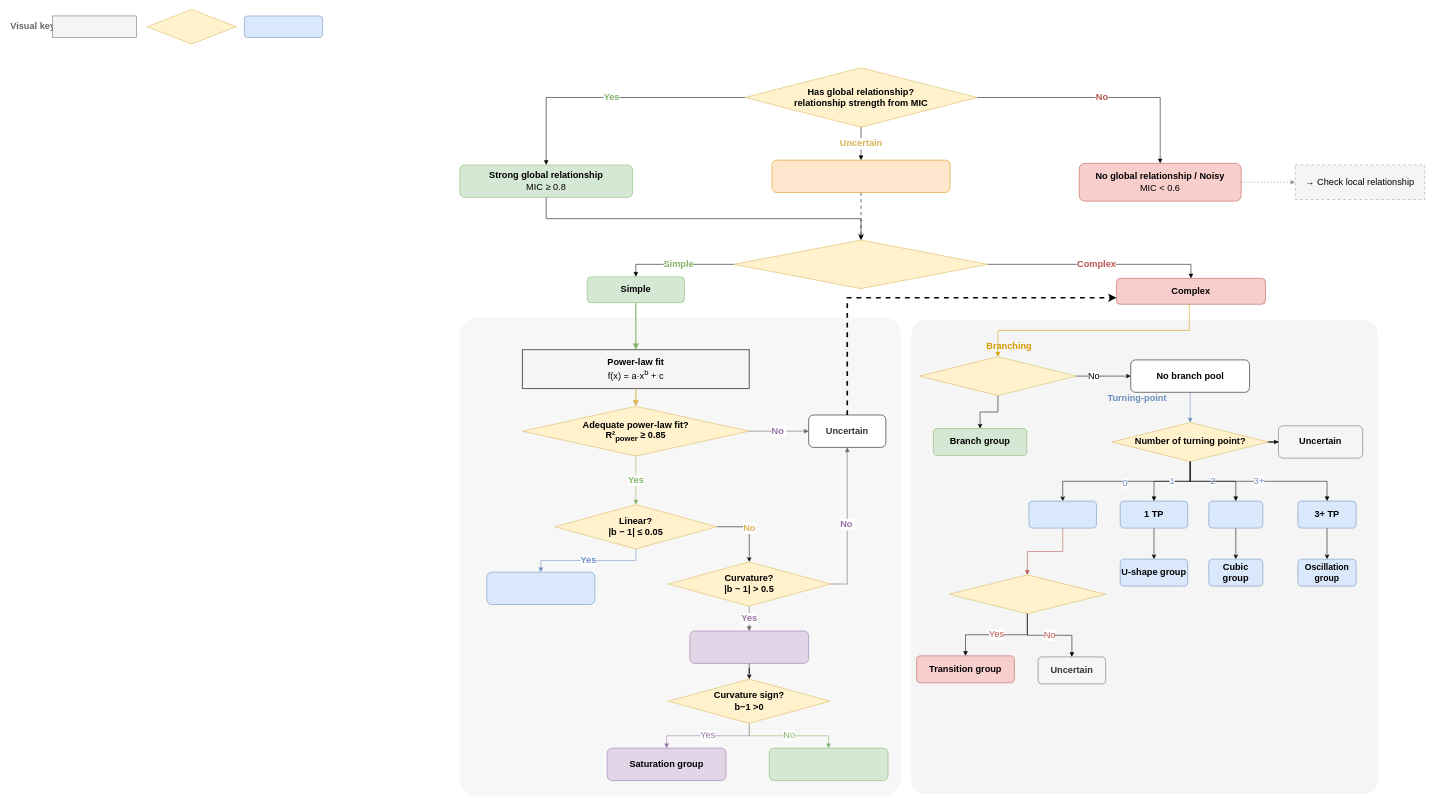
The diagram is 1434 pixels wide and 806 high, and some of its shapes have lost their labels. The centre of each missing label's shape, as x and y in pixels:
0 TP: point (1062, 514)
2 TP: point (1235, 514)
Acceleration group: point (828, 764)
Curvature pool: point (749, 646)
Decision / criterion: point (191, 26)
Has branches?: point (997, 376)
Has multimodal?: point (1027, 594)
Intermediate global relationship 0.6 ≤ MIC < 0.8: point (860, 176)
Linear group: point (540, 588)
Method / model fitting: point (94, 26)
Relationship type: point (283, 26)
Simple or Complex? Simple = |Pearson| ≥ 0.7: point (861, 264)
